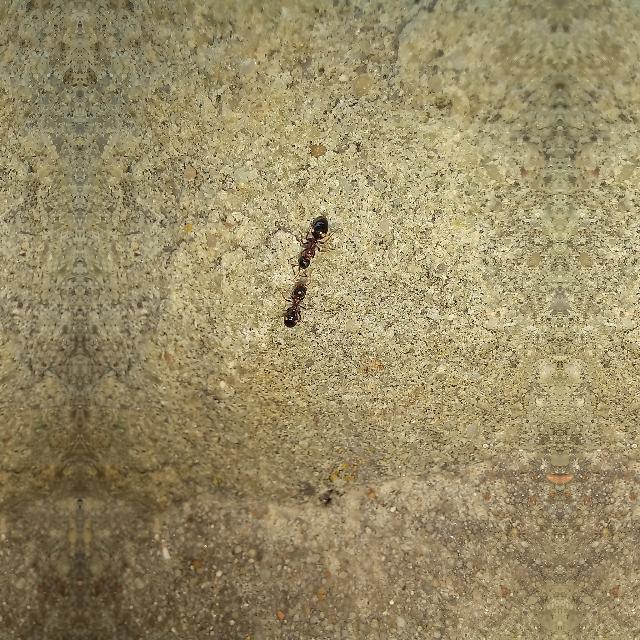Dolichoderus: (292, 205, 338, 271), (278, 276, 310, 330)
